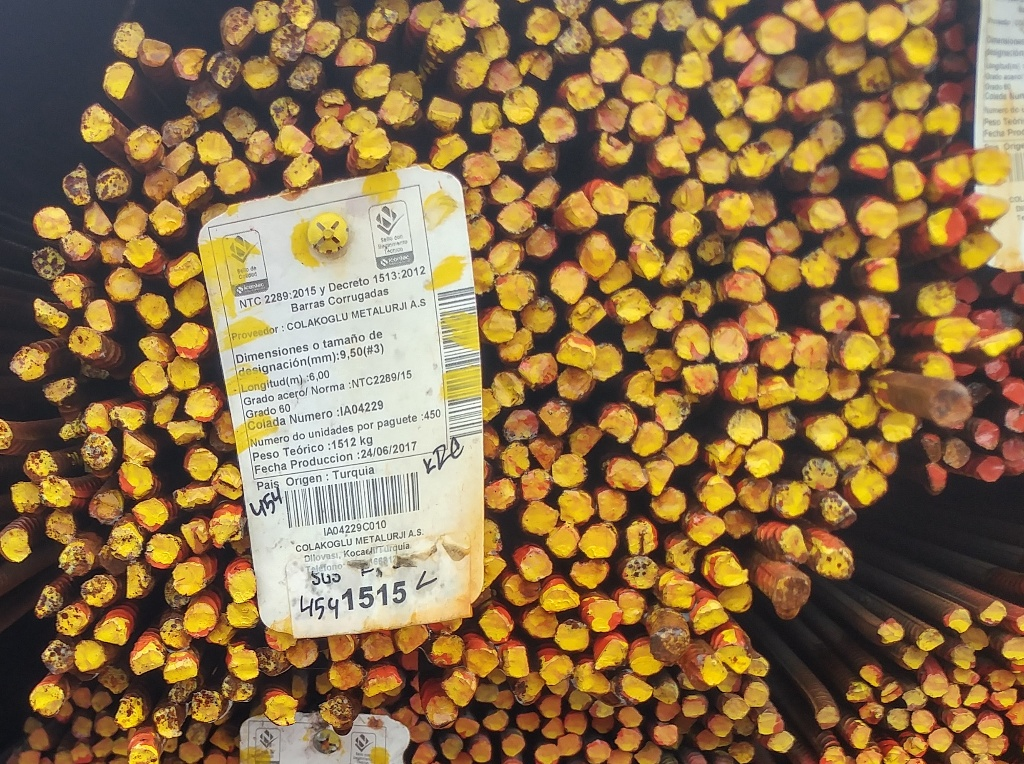dipstick: (923, 387, 975, 433), (836, 329, 881, 374), (576, 235, 620, 280), (722, 364, 764, 406), (600, 405, 642, 447), (794, 76, 837, 117), (887, 159, 928, 201), (806, 412, 850, 451), (772, 479, 813, 520), (429, 126, 468, 169), (119, 122, 163, 160), (815, 294, 858, 332), (775, 520, 811, 565), (971, 148, 1012, 187), (52, 271, 91, 312), (644, 347, 686, 385), (455, 148, 498, 185), (378, 90, 422, 126), (849, 142, 893, 178), (933, 319, 978, 354), (517, 498, 562, 533), (553, 367, 596, 403), (653, 391, 692, 430), (554, 194, 594, 232), (494, 199, 540, 232), (427, 13, 468, 50), (925, 209, 967, 245), (651, 629, 693, 665), (589, 182, 632, 217), (722, 271, 765, 306), (77, 103, 116, 141), (521, 299, 560, 337), (621, 368, 659, 407), (734, 141, 774, 178), (849, 467, 889, 504), (741, 86, 782, 122), (803, 247, 839, 288), (607, 287, 648, 323), (653, 86, 692, 123), (628, 243, 667, 280), (758, 329, 797, 366), (774, 579, 813, 616), (818, 493, 858, 529), (565, 423, 607, 457), (595, 260, 639, 292), (502, 84, 539, 122), (718, 189, 756, 226), (622, 204, 660, 241), (105, 268, 143, 305), (829, 4, 868, 40), (653, 136, 692, 172), (567, 297, 606, 333), (518, 352, 557, 388), (697, 476, 736, 512), (9, 346, 48, 382), (757, 16, 797, 51), (851, 97, 886, 137), (754, 373, 794, 408), (717, 628, 752, 668), (467, 99, 508, 133), (172, 276, 204, 319), (765, 219, 802, 256), (983, 320, 1020, 357), (666, 533, 703, 570), (649, 294, 685, 332), (792, 366, 830, 402), (485, 476, 523, 512), (816, 540, 854, 576), (133, 293, 171, 329), (313, 114, 352, 149), (214, 159, 253, 194), (918, 282, 957, 317), (479, 308, 518, 343), (629, 423, 668, 458), (747, 440, 782, 479), (539, 107, 579, 141), (808, 118, 848, 152), (685, 15, 722, 51), (57, 170, 94, 206), (826, 223, 863, 259), (765, 255, 802, 291), (661, 251, 698, 287), (523, 606, 559, 643), (524, 6, 559, 44), (490, 127, 525, 165), (490, 370, 525, 408), (268, 29, 307, 63), (239, 129, 278, 163), (961, 233, 1000, 267), (739, 303, 778, 337), (682, 362, 721, 396), (735, 477, 774, 511), (718, 27, 758, 60), (787, 1, 829, 32), (705, 550, 741, 586), (168, 322, 204, 358), (664, 213, 702, 247), (497, 274, 535, 308), (859, 298, 893, 336), (685, 653, 723, 687), (355, 128, 394, 161), (502, 408, 542, 440), (562, 79, 606, 108), (712, 325, 747, 361), (558, 487, 593, 523), (195, 129, 232, 163), (845, 395, 882, 429), (581, 599, 618, 633), (113, 695, 150, 729), (117, 460, 154, 494), (623, 322, 661, 355), (727, 411, 765, 444), (880, 407, 918, 440), (317, 696, 355, 729), (181, 601, 220, 633), (485, 238, 525, 269), (824, 367, 864, 398), (514, 50, 555, 80), (561, 334, 596, 369), (479, 605, 514, 640), (810, 197, 846, 231), (594, 487, 630, 521), (625, 520, 661, 554), (707, 439, 744, 472), (9, 479, 46, 512), (164, 252, 197, 289), (605, 458, 647, 487), (868, 9, 906, 41), (548, 266, 587, 297), (684, 514, 727, 542), (103, 64, 137, 99), (355, 63, 390, 97), (698, 234, 732, 269), (666, 432, 701, 466), (444, 668, 479, 702), (227, 644, 261, 679), (555, 22, 596, 51), (589, 8, 625, 41), (895, 75, 931, 108), (283, 154, 319, 187), (865, 256, 901, 289), (586, 346, 622, 379), (465, 644, 501, 677), (88, 489, 124, 522), (21, 448, 57, 481), (662, 580, 699, 612), (537, 401, 575, 432), (213, 462, 244, 500), (59, 229, 97, 260), (869, 437, 903, 471), (592, 635, 626, 669), (429, 94, 464, 127), (601, 131, 636, 164), (698, 146, 733, 179), (969, 416, 1004, 449), (651, 489, 686, 522), (691, 599, 724, 634), (627, 557, 662, 590), (266, 690, 299, 725), (150, 704, 185, 737), (303, 24, 339, 56), (580, 521, 616, 553), (554, 619, 590, 651), (573, 658, 609, 690), (29, 587, 65, 619), (123, 237, 159, 269), (468, 252, 496, 293), (674, 327, 711, 358), (796, 331, 827, 368), (181, 480, 218, 511), (33, 300, 72, 329), (622, 72, 655, 106), (863, 199, 896, 233), (734, 242, 768, 275), (767, 409, 801, 442), (803, 457, 837, 490), (364, 665, 398, 698), (45, 511, 79, 544), (32, 245, 65, 279), (227, 569, 259, 604), (275, 126, 311, 157), (883, 117, 919, 148), (629, 641, 665, 672), (110, 527, 146, 558), (1, 529, 32, 565), (80, 405, 116, 436), (184, 388, 220, 419), (181, 449, 218, 479), (972, 190, 1010, 219), (167, 174, 211, 199), (905, 30, 938, 63), (189, 692, 222, 725), (347, 104, 381, 136), (673, 118, 705, 152), (673, 181, 707, 213), (680, 280, 712, 314), (552, 455, 586, 487), (835, 436, 869, 468), (58, 604, 92, 636), (168, 358, 200, 392), (68, 326, 102, 358), (760, 126, 791, 161), (531, 176, 562, 211), (645, 459, 676, 494), (59, 546, 94, 577), (774, 54, 810, 84), (826, 46, 866, 73), (718, 116, 754, 146), (94, 169, 130, 199), (32, 207, 68, 237), (127, 644, 163, 674), (452, 54, 489, 83), (518, 469, 555, 498), (572, 558, 609, 587), (79, 577, 116, 606), (143, 165, 176, 197), (424, 694, 457, 726), (324, 631, 357, 663), (208, 512, 241, 544), (220, 11, 254, 42), (150, 205, 184, 236), (530, 435, 561, 469), (146, 536, 180, 567), (135, 363, 169, 394), (94, 237, 128, 268), (590, 46, 625, 76), (465, 215, 493, 252), (167, 415, 204, 443), (238, 60, 276, 87), (478, 26, 509, 59), (944, 436, 975, 469), (116, 24, 146, 58), (629, 6, 659, 40), (739, 53, 773, 83), (927, 104, 961, 134), (809, 162, 839, 196), (73, 643, 108, 672), (186, 88, 222, 116), (935, 157, 971, 185), (163, 145, 199, 173), (113, 207, 149, 235), (358, 632, 395, 659), (500, 444, 532, 475), (43, 640, 74, 672), (542, 584, 575, 614), (282, 2, 316, 31), (486, 64, 520, 93), (719, 30, 753, 59), (622, 672, 656, 701), (528, 229, 563, 257), (431, 637, 466, 665), (134, 501, 169, 529), (517, 551, 553, 578), (488, 177, 525, 203), (222, 678, 259, 704), (42, 477, 72, 509), (479, 426, 508, 459), (618, 591, 647, 624), (285, 638, 318, 667), (83, 301, 112, 334), (709, 79, 743, 107), (789, 138, 817, 172), (539, 658, 573, 686), (206, 57, 242, 83), (262, 626, 298, 652), (150, 396, 180, 427), (894, 194, 926, 223), (722, 581, 754, 610), (507, 577, 539, 606), (172, 564, 204, 593), (113, 402, 145, 431), (411, 1, 444, 29), (329, 662, 362, 690), (165, 657, 199, 684), (250, 4, 280, 34), (201, 197, 230, 228), (141, 336, 172, 365), (461, 1, 500, 24), (747, 197, 779, 225), (547, 526, 579, 554), (31, 687, 63, 715), (259, 648, 292, 675), (523, 144, 557, 170), (921, 356, 955, 382), (623, 179, 658, 204), (290, 63, 320, 92), (976, 459, 1006, 488), (514, 673, 544, 702), (225, 599, 254, 629), (124, 569, 154, 598), (663, 4, 695, 31), (222, 111, 254, 138), (643, 53, 675, 80), (863, 59, 895, 86), (463, 185, 487, 221), (867, 234, 903, 258), (923, 465, 950, 497), (394, 626, 433, 648), (482, 556, 507, 590), (367, 12, 397, 40), (673, 57, 704, 84), (161, 585, 192, 612), (165, 119, 197, 145), (871, 336, 897, 368), (1000, 436, 1024, 470), (45, 379, 82, 401), (389, 140, 418, 168), (680, 690, 708, 719), (437, 729, 465, 758), (584, 737, 614, 764), (536, 692, 568, 717), (500, 649, 529, 676), (962, 683, 989, 712), (845, 722, 872, 751), (211, 725, 238, 754), (986, 684, 1017, 709), (482, 523, 504, 558), (316, 91, 348, 115), (215, 412, 238, 445), (85, 208, 114, 234), (739, 682, 768, 708), (97, 620, 126, 646), (1000, 402, 1024, 433), (654, 722, 685, 746), (1001, 374, 1024, 406), (726, 512, 758, 535), (269, 100, 297, 126), (952, 644, 978, 672), (943, 22, 968, 51), (987, 357, 1014, 383), (859, 701, 885, 728), (929, 726, 956, 752), (183, 523, 210, 549), (994, 269, 1022, 294), (392, 74, 421, 98), (467, 739, 497, 762), (174, 742, 205, 764), (755, 712, 781, 738), (910, 708, 936, 734), (709, 1, 754, 16), (139, 43, 171, 64), (947, 709, 975, 733), (480, 388, 499, 423), (495, 338, 525, 360), (585, 697, 616, 718), (879, 621, 905, 646), (943, 605, 968, 631), (964, 626, 990, 651), (176, 52, 203, 76), (336, 10, 360, 37), (516, 709, 543, 733), (555, 1, 593, 18), (957, 279, 980, 307), (500, 733, 529, 755), (917, 626, 942, 651), (983, 601, 1008, 626), (816, 703, 839, 730), (886, 705, 913, 728), (747, 656, 775, 678), (615, 704, 643, 726), (61, 418, 89, 440), (481, 710, 510, 731), (907, 1, 937, 21), (692, 728, 717, 752), (564, 711, 589, 735), (616, 728, 642, 751), (919, 437, 941, 464), (68, 716, 95, 738), (942, 55, 970, 76), (565, 690, 593, 711), (720, 671, 745, 694), (924, 672, 947, 697), (730, 741, 755, 764), (454, 713, 479, 736), (654, 698, 681, 719), (539, 718, 566, 739), (407, 722, 434, 743), (987, 669, 1015, 689), (950, 665, 978, 685), (414, 743, 442, 763), (170, 682, 198, 702), (846, 683, 870, 706), (182, 723, 211, 742), (89, 691, 114, 713), (901, 689, 927, 710), (976, 309, 1004, 328), (656, 681, 679, 704), (979, 715, 1003, 737), (93, 713, 115, 737), (941, 682, 962, 707), (72, 687, 93, 712), (771, 731, 797, 751), (637, 743, 663, 763), (1, 419, 16, 453), (709, 715, 732, 737), (491, 687, 514, 709), (28, 728, 50, 751), (823, 746, 851, 764), (289, 677, 310, 701), (89, 737, 113, 758), (904, 648, 929, 668), (906, 732, 928, 754), (475, 683, 499, 703), (941, 88, 963, 109), (157, 733, 179, 754), (1004, 638, 1024, 661), (879, 682, 902, 702), (947, 747, 974, 764), (386, 2, 411, 20), (858, 746, 883, 764), (393, 710, 419, 727), (400, 649, 420, 671), (954, 357, 978, 375), (361, 690, 385, 708), (313, 673, 334, 693), (111, 733, 129, 756), (1007, 702, 1024, 726), (207, 749, 234, 764), (72, 742, 92, 762), (512, 328, 533, 347), (968, 733, 989, 752), (594, 715, 615, 734), (699, 55, 717, 77), (886, 744, 908, 762), (607, 749, 633, 764), (434, 620, 464, 633), (989, 737, 1009, 756), (735, 717, 754, 737), (861, 665, 882, 683), (132, 750, 156, 764), (50, 750, 72, 764), (9, 754, 39, 764), (1009, 286, 1024, 303), (410, 694, 425, 709), (25, 720, 41, 734), (1014, 610, 1024, 623), (1015, 672, 1024, 683)
